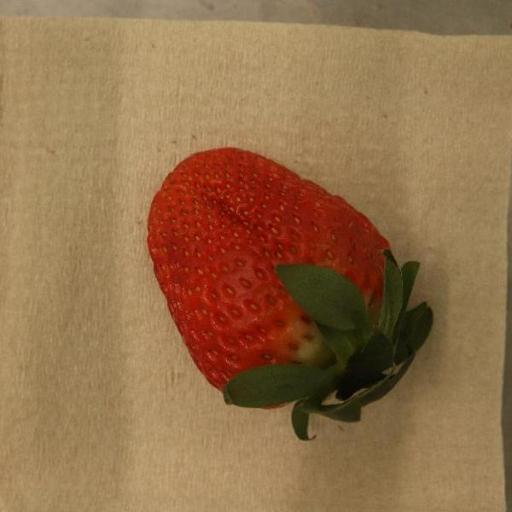Strawberry: (148, 148, 435, 442)
